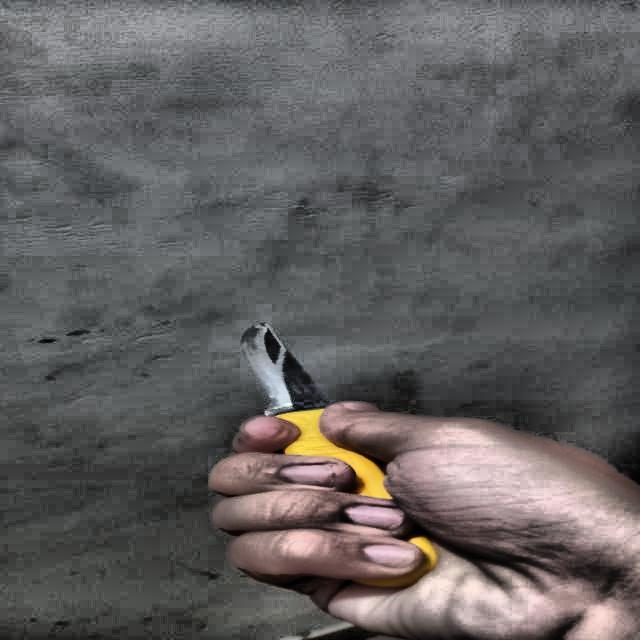knife: (246, 323, 440, 587)
